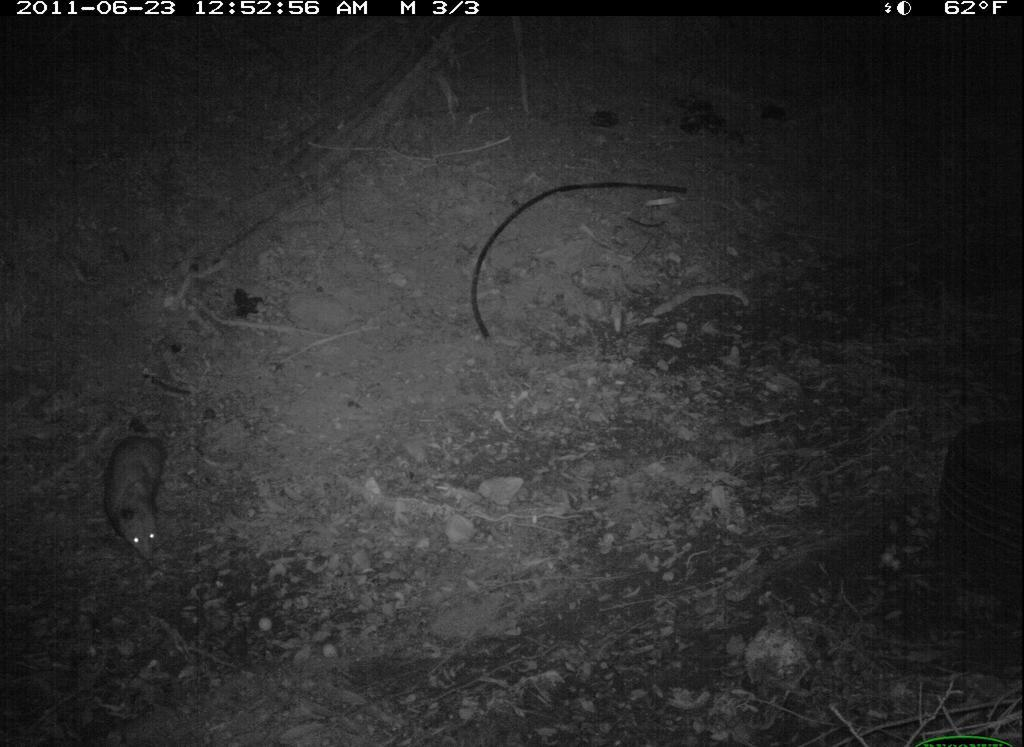opossum: (94, 431, 176, 570)
